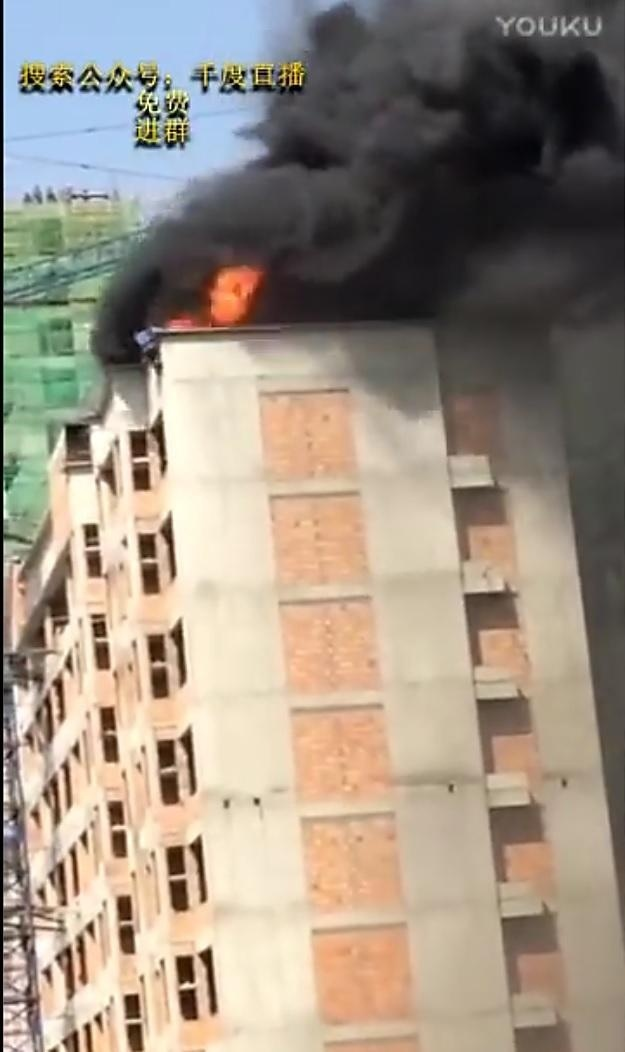fire: (181, 263, 263, 328)
